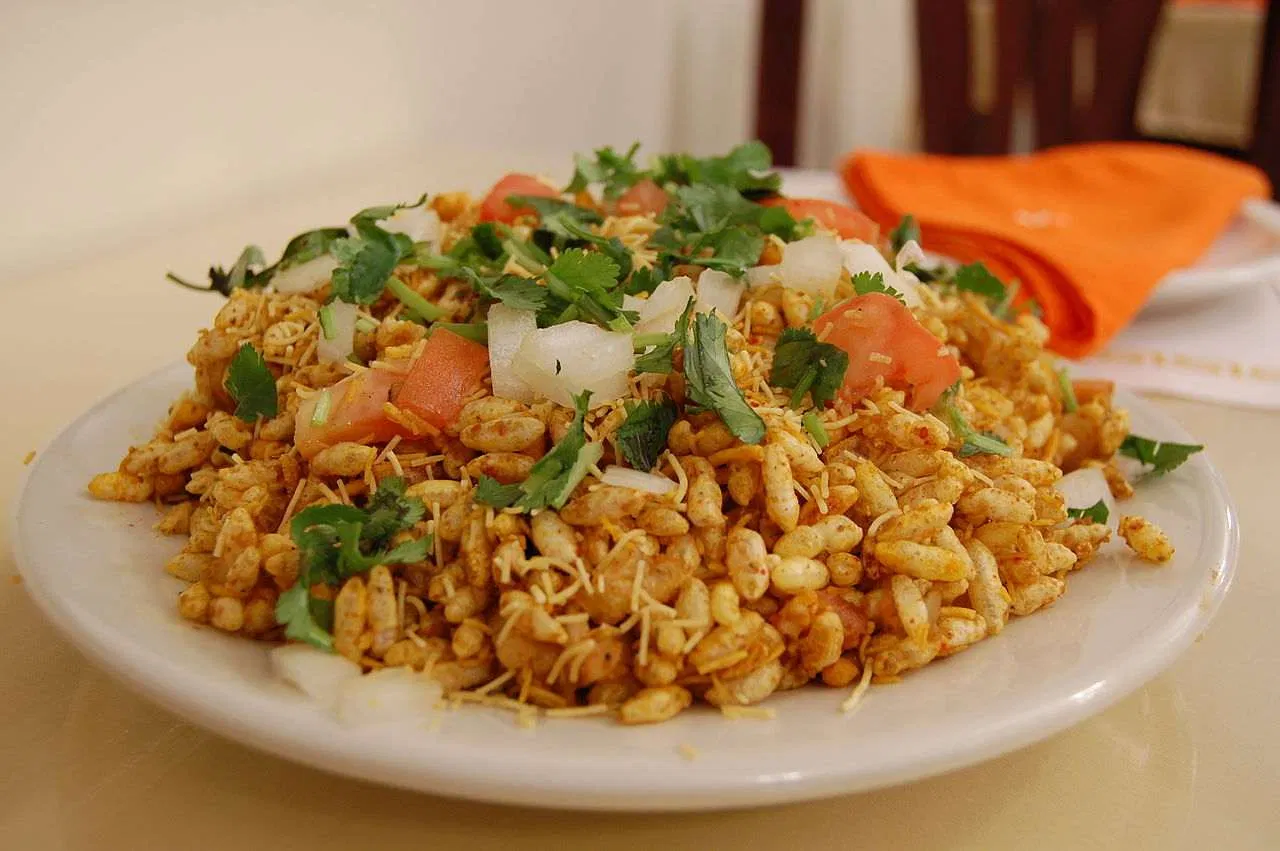chatpate: (178, 200, 1096, 636)
